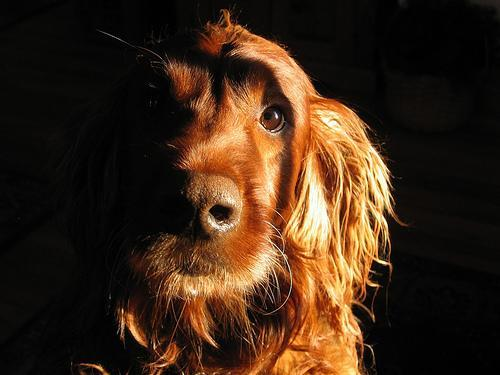Irish_setter: (46, 0, 410, 373)
